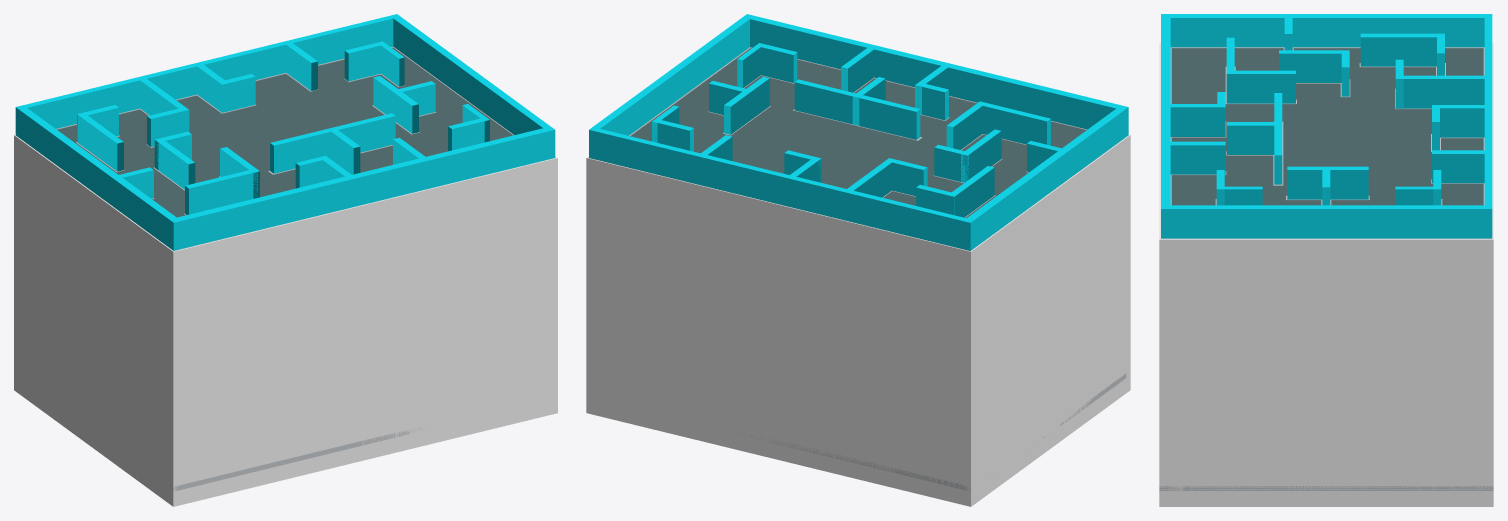
Rendered from Level_13.FBX.
3 renders of one model, left to right at view 1: azimuth 30°, elevation 25°; view 2: azimuth 150°, elevation 25°; view 3: azimuth 270°, elevation 25°, orthographic. The views are drawn at different scales.
Visible parts, largest first — view 1: Level_13; view 2: Level_13; view 3: Level_13.
Boxes of the visible parts, x1=… form: Level_13: x1=14, y1=14, x2=557, y2=506; Level_13: x1=586, y1=14, x2=1130, y2=506; Level_13: x1=1159, y1=14, x2=1493, y2=506.
Bounding box in the file's own units: 189 × 133 × 136.
